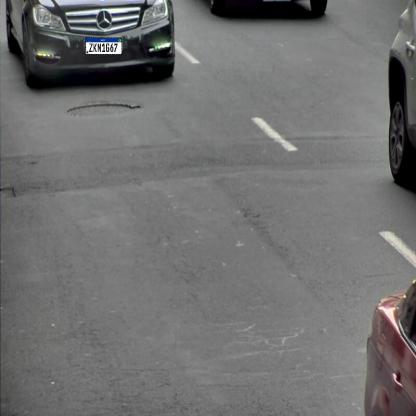PlacaM: (85, 37, 122, 55)
